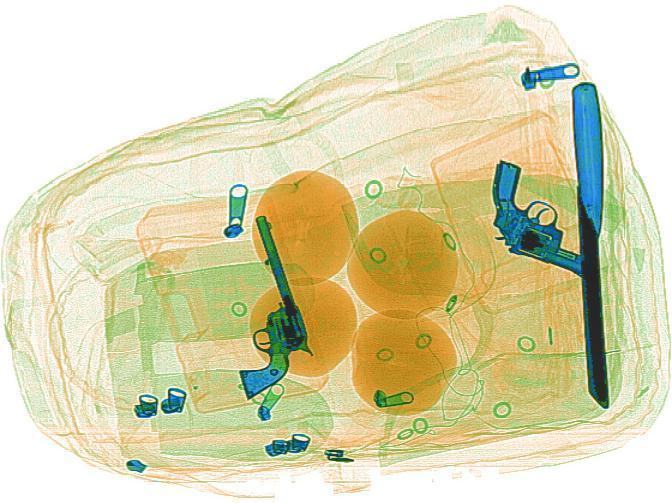Gun: (184, 214, 327, 398), (447, 157, 634, 274)
Knife: (569, 81, 613, 409)
